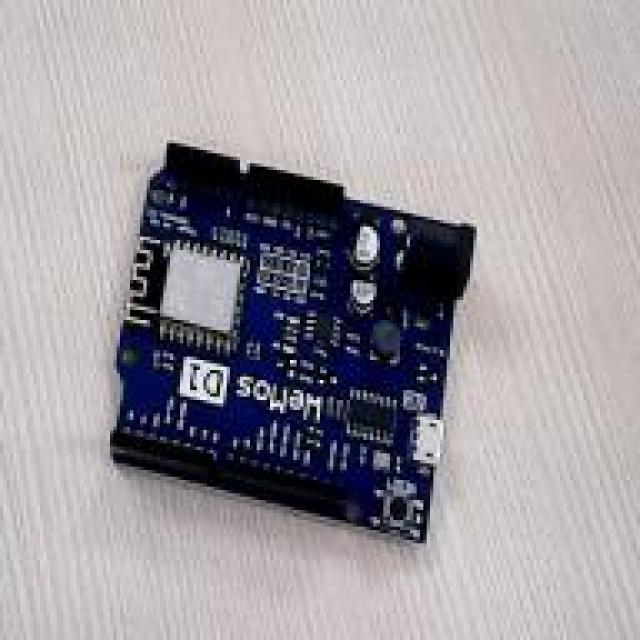Wemos: (114, 144, 474, 541)
